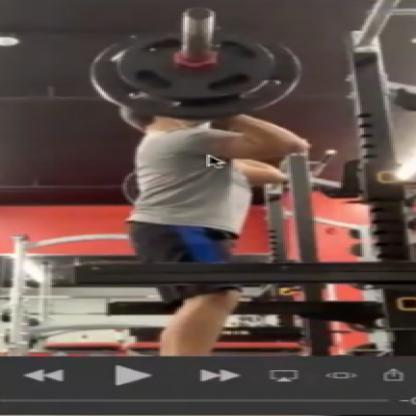barbell: (87, 3, 302, 121)
